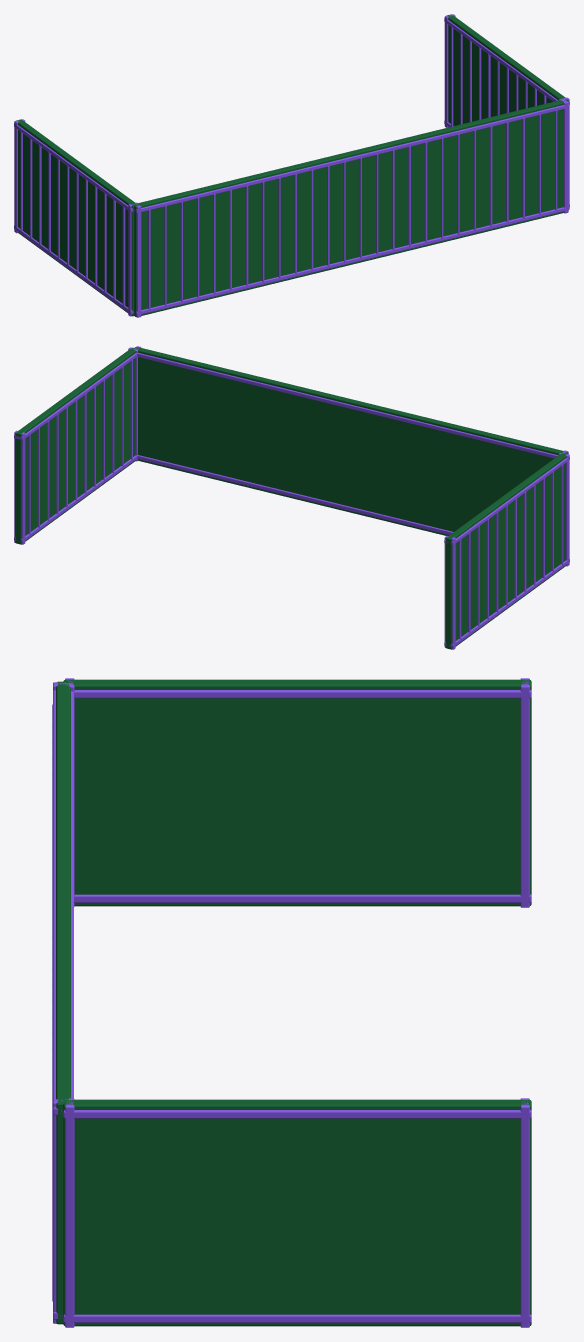
The model's file is env_base99_mezzanine_underdeck_blocker_visual_top3d_v001.glb.
3 views of the same model, one above another, from view 1: azimuth 30°, elevation 25°; view 2: azimuth 150°, elevation 25°; view 3: azimuth 270°, elevation 25° (orthographic). The views are drawn at different scales.
Visible parts, largest first — view 1: 仓库挡板_主体_金属哑光反光; view 2: 仓库挡板_主体_金属哑光反光; view 3: 仓库挡板_主体_金属哑光反光.
Part boxes in pixels (left/top/right/bottom): 仓库挡板_主体_金属哑光反光: left=14, top=14, right=569, bottom=317; 仓库挡板_主体_金属哑光反光: left=14, top=346, right=569, bottom=649; 仓库挡板_主体_金属哑光反光: left=52, top=678, right=531, bottom=1327.
Bounding box in the file's own units: 19.31 × 4.65 × 9.11.
3 materials, 3 textured.
